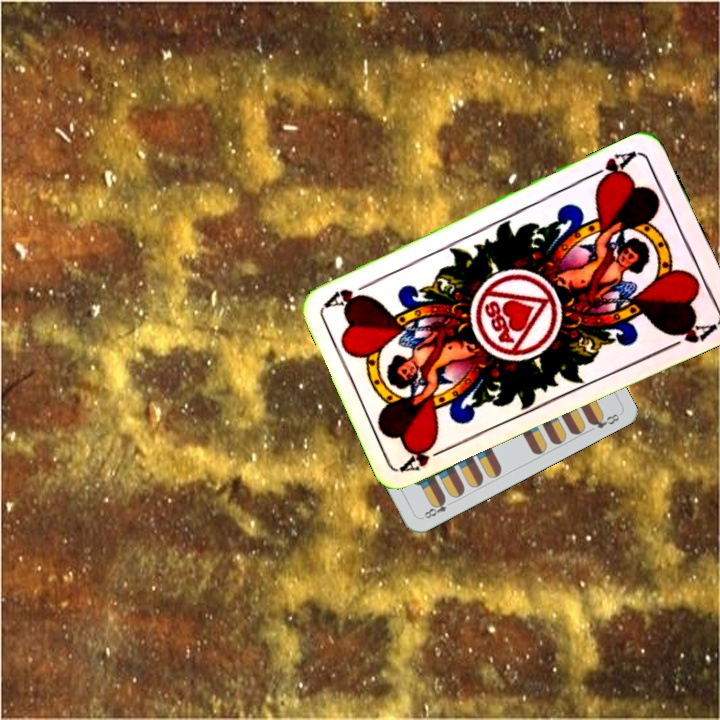E8: (418, 495, 449, 521)
HA: (584, 146, 639, 188), (398, 435, 454, 475)
